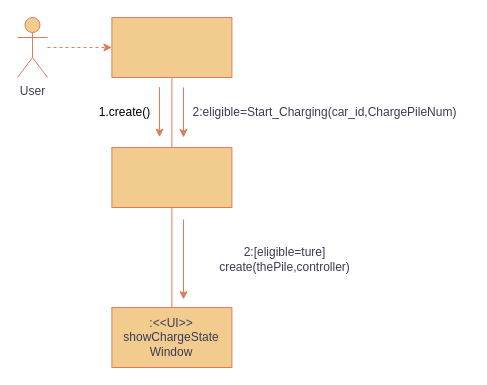
Some shapes in this 487 by 385 pixel diagram are drawn without their labels. Here are the shapes that lost their labels. From the top down, the box of each, then its label:
(111, 16, 232, 78): :<<UI>> charge Window
(111, 146, 232, 208): controller: carChargeController
